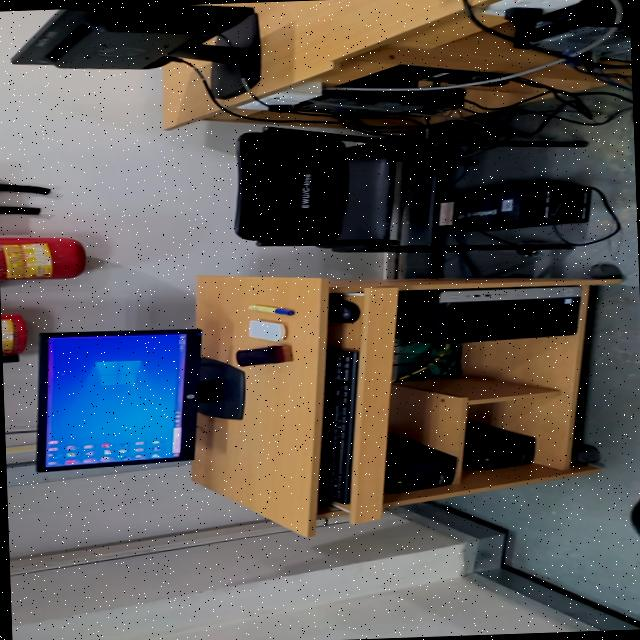Chair: (233, 127, 586, 252)
Cpu: (395, 285, 580, 343), (293, 66, 463, 114), (504, 0, 631, 60)
Fire Extinguisher: (0, 237, 84, 280), (0, 314, 25, 354)
Keyboard: (318, 349, 357, 503)
Monitor: (35, 329, 244, 472), (10, 4, 259, 98)
Mouse: (328, 297, 358, 323)
